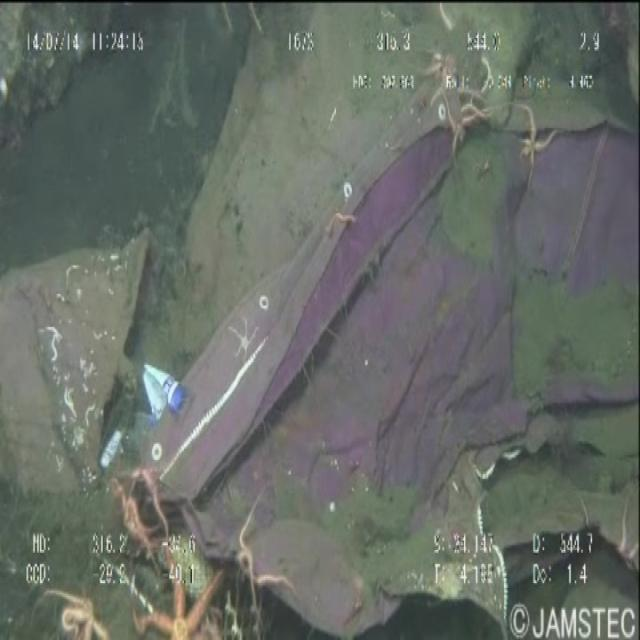Accessories: (114, 67, 640, 634)
Litter: (130, 346, 189, 432)
